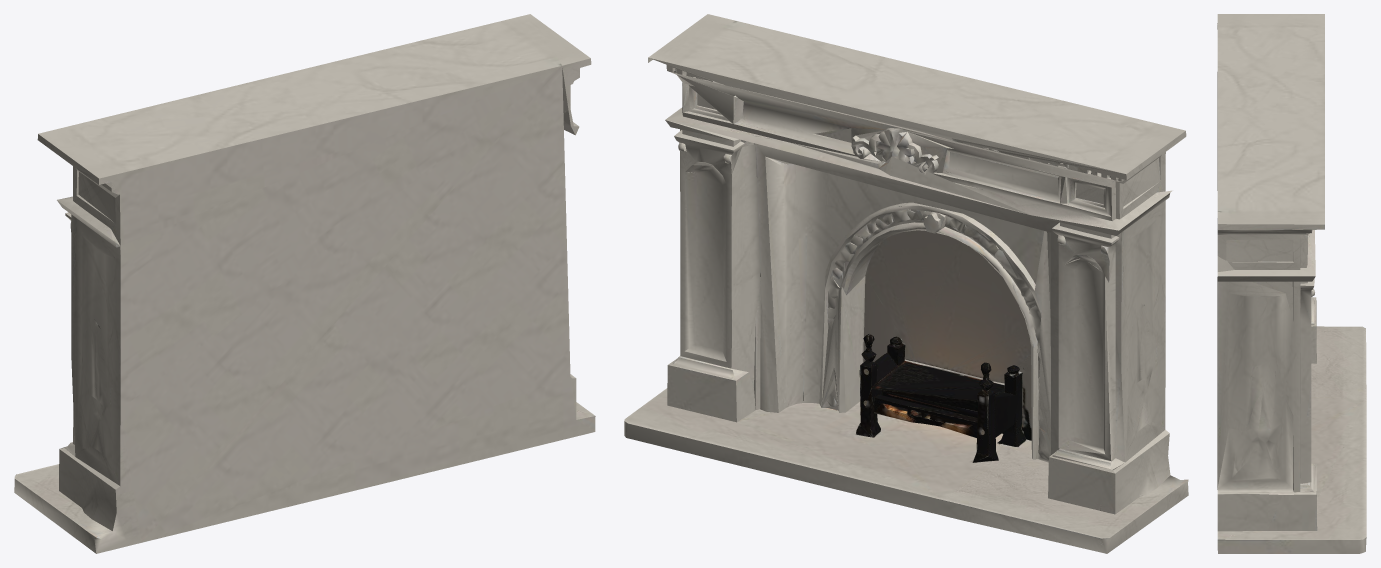
File: mj-fireplace-marble-adam.glb
3 views of the same model, side by side, from view 1: azimuth 30°, elevation 25°; view 2: azimuth 150°, elevation 25°; view 3: azimuth 270°, elevation 25° (orthographic). The views are drawn at different scales.
Parts seen in each view (by area): view 1: mj-fireplace-marble-adam; view 2: mj-fireplace-marble-adam; view 3: mj-fireplace-marble-adam.
Boxes of the visible parts, left/top/right/bottom form: mj-fireplace-marble-adam: left=14, top=14, right=595, bottom=553; mj-fireplace-marble-adam: left=624, top=14, right=1188, bottom=553; mj-fireplace-marble-adam: left=1217, top=14, right=1366, bottom=553.
Size of the model in its own units: 1.81 by 1.3 by 0.5357.
1 material, 1 textured.
